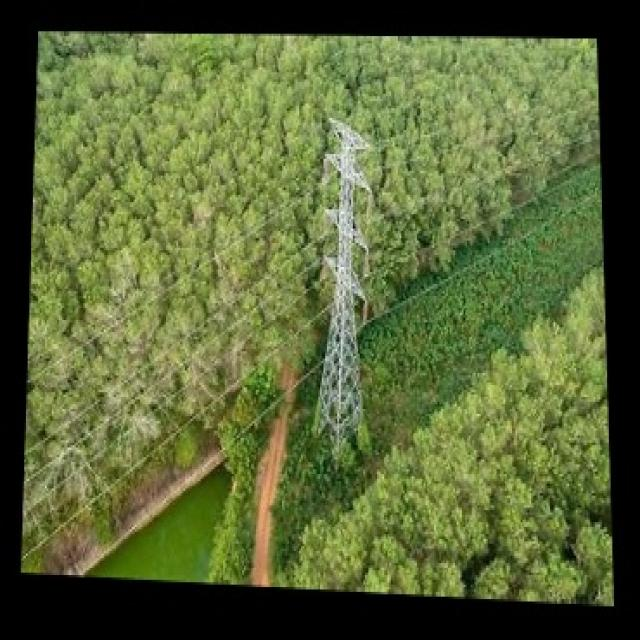utility poles: (310, 102, 380, 464)
